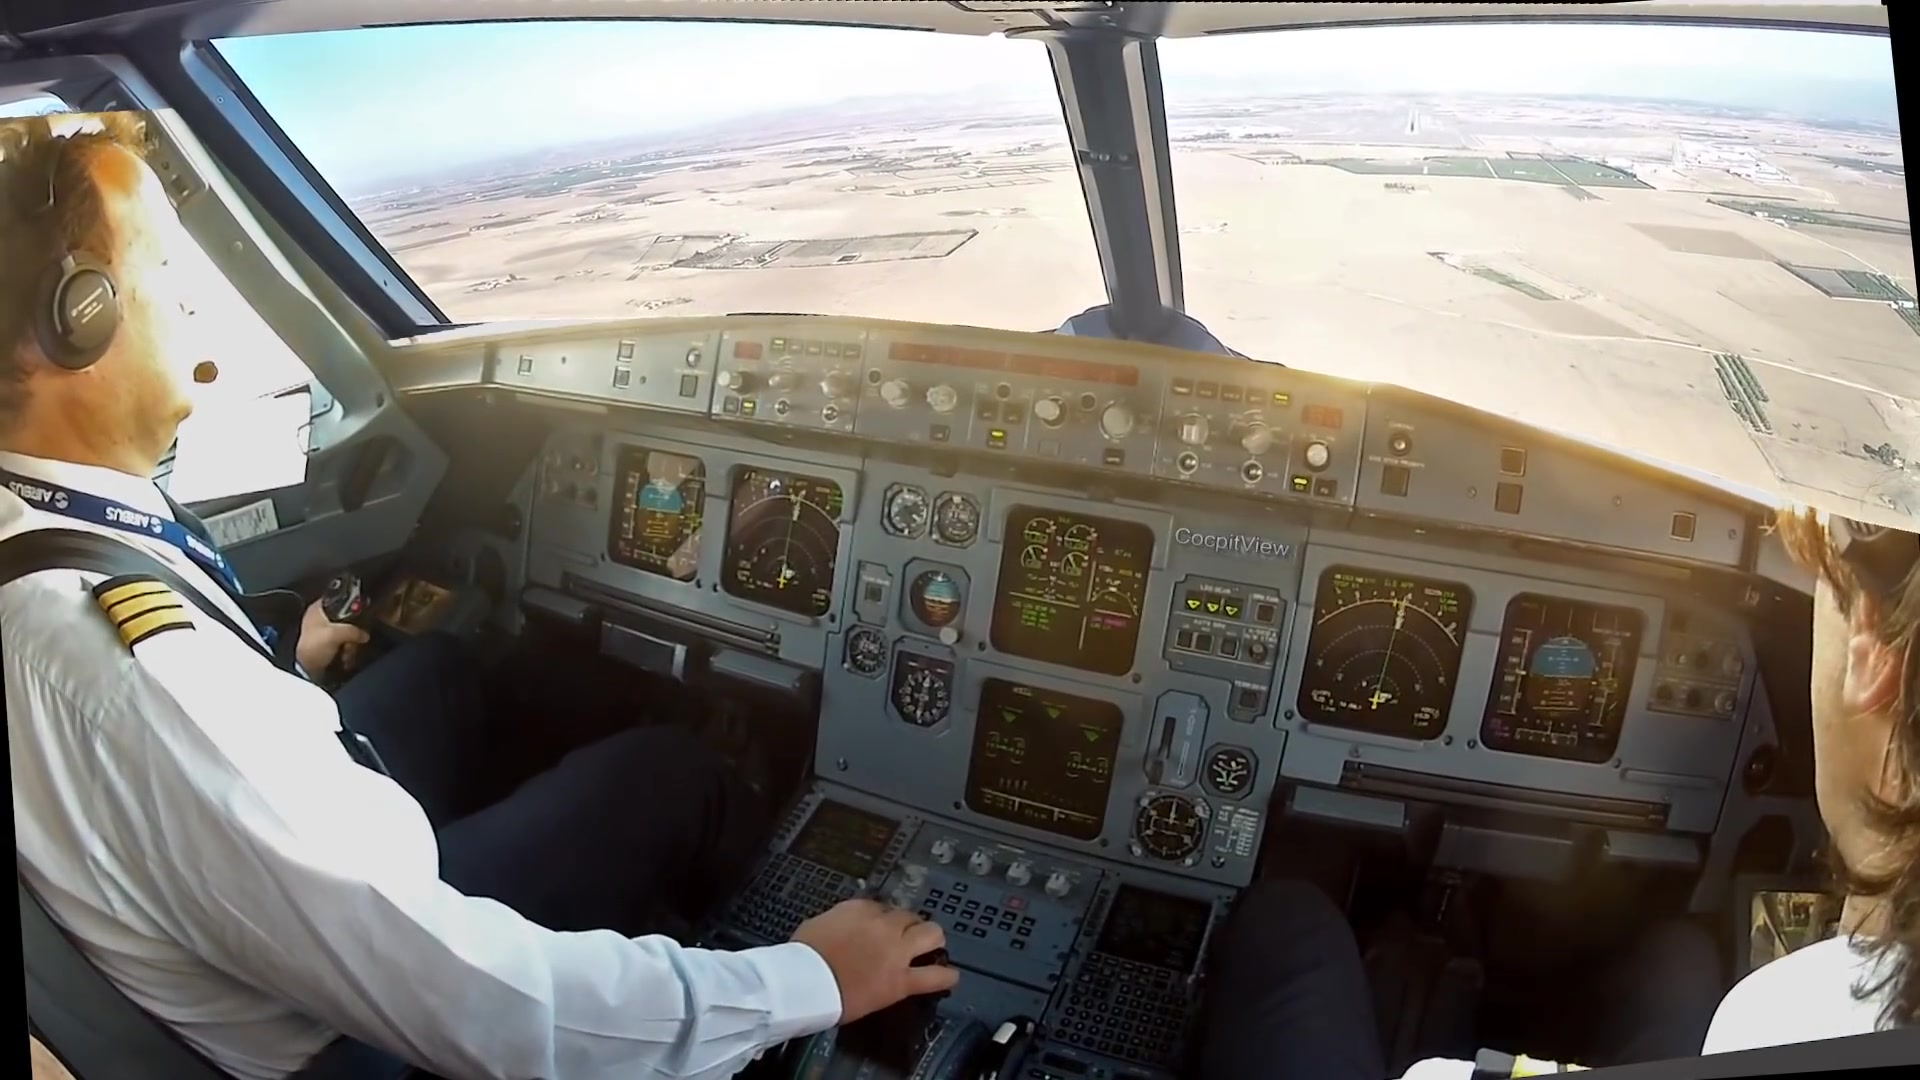runway: (1403, 103, 1423, 136)
